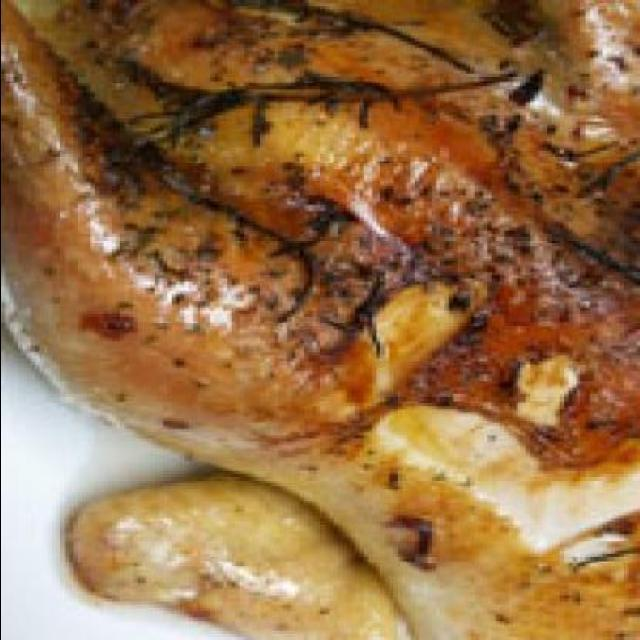Chicken roast: (9, 3, 636, 625)
